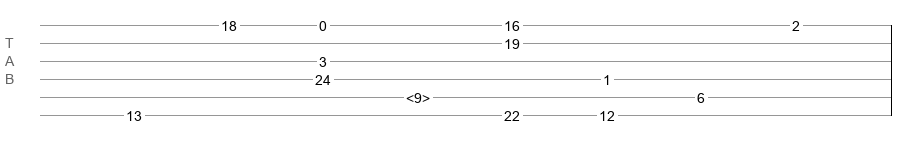0: (319, 18, 327, 28)
1: (603, 72, 611, 82)
12: (599, 108, 615, 118)
13: (126, 108, 142, 118)
16: (504, 18, 520, 28)
18: (221, 18, 237, 28)
19: (504, 36, 520, 46)
2: (792, 18, 800, 28)
22: (504, 108, 520, 118)
24: (315, 72, 331, 82)
3: (319, 54, 327, 64)
6: (697, 90, 705, 100)
harmonic: (406, 90, 430, 100)
